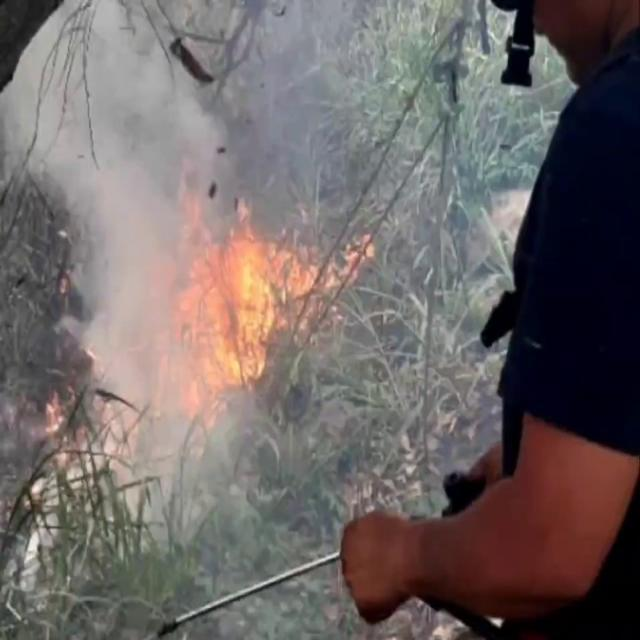Fire: (173, 203, 319, 411)
Smoke: (11, 9, 225, 507)
